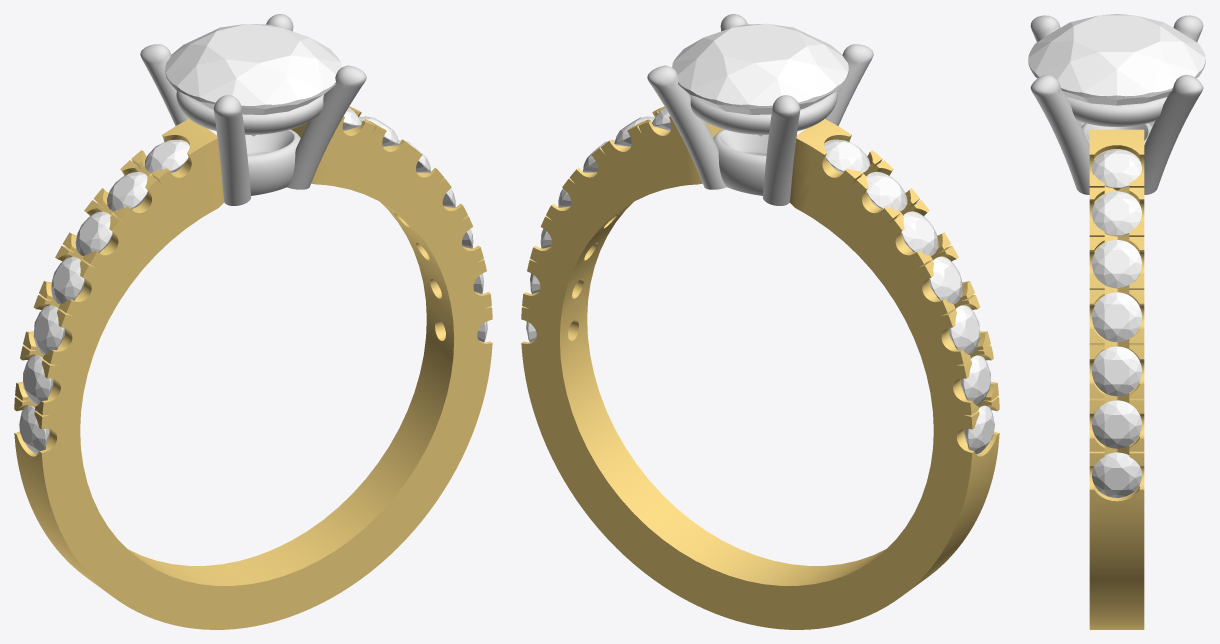
The model's file is nateT_webgi (1).glb.
3 renders of one model, left to right at view 1: azimuth 30°, elevation 25°; view 2: azimuth 150°, elevation 25°; view 3: azimuth 270°, elevation 25°, orthographic.
Parts seen in each view (by area): view 1: Nate_T_ring_for_3d_model, Nate_T_ring_for_3d_model003, Nate_T_ring_for_3d_model021, Nate_T_ring_for_3d_model016, Nate_T_ring_for_3d_model015, Nate_T_ring_for_3d_model017, Nate_T_ring_for_3d_model014, Nate_T_ring_for_3d_model018, Nate_T_ring_for_3d_model019, Nate_T_ring_for_3d_model020; view 2: Nate_T_ring_for_3d_model, Nate_T_ring_for_3d_model003, Nate_T_ring_for_3d_model021, Nate_T_ring_for_3d_model016, Nate_T_ring_for_3d_model015, Nate_T_ring_for_3d_model017, Nate_T_ring_for_3d_model014, Nate_T_ring_for_3d_model018, Nate_T_ring_for_3d_model019, Nate_T_ring_for_3d_model020; view 3: Nate_T_ring_for_3d_model, Nate_T_ring_for_3d_model021, Nate_T_ring_for_3d_model003, Nate_T_ring_for_3d_model010, Nate_T_ring_for_3d_model011, Nate_T_ring_for_3d_model012, Nate_T_ring_for_3d_model009, Nate_T_ring_for_3d_model013, Nate_T_ring_for_3d_model008, Nate_T_ring_for_3d_model007.
Boxes of the visible parts, <box> form: Nate_T_ring_for_3d_model: <box>14,106,492,629</box>; Nate_T_ring_for_3d_model003: <box>140,14,366,205</box>; Nate_T_ring_for_3d_model021: <box>165,23,341,136</box>; Nate_T_ring_for_3d_model016: <box>75,211,112,256</box>; Nate_T_ring_for_3d_model015: <box>107,172,147,211</box>; Nate_T_ring_for_3d_model017: <box>51,256,84,304</box>; Nate_T_ring_for_3d_model014: <box>144,139,189,172</box>; Nate_T_ring_for_3d_model018: <box>33,305,64,354</box>; Nate_T_ring_for_3d_model019: <box>23,355,53,404</box>; Nate_T_ring_for_3d_model020: <box>19,405,49,454</box>; Nate_T_ring_for_3d_model: <box>521,106,999,629</box>; Nate_T_ring_for_3d_model003: <box>647,14,873,205</box>; Nate_T_ring_for_3d_model021: <box>672,23,848,136</box>; Nate_T_ring_for_3d_model016: <box>901,211,938,256</box>; Nate_T_ring_for_3d_model015: <box>866,172,906,211</box>; Nate_T_ring_for_3d_model017: <box>929,256,962,304</box>; Nate_T_ring_for_3d_model014: <box>824,139,869,172</box>; Nate_T_ring_for_3d_model018: <box>949,305,980,354</box>; Nate_T_ring_for_3d_model019: <box>960,355,990,404</box>; Nate_T_ring_for_3d_model020: <box>964,405,994,454</box>; Nate_T_ring_for_3d_model: <box>1089,129,1144,629</box>; Nate_T_ring_for_3d_model021: <box>1028,14,1205,105</box>; Nate_T_ring_for_3d_model003: <box>1030,15,1203,194</box>; Nate_T_ring_for_3d_model010: <box>1092,292,1141,342</box>; Nate_T_ring_for_3d_model011: <box>1092,346,1141,396</box>; Nate_T_ring_for_3d_model012: <box>1092,400,1141,448</box>; Nate_T_ring_for_3d_model009: <box>1092,240,1141,288</box>; Nate_T_ring_for_3d_model013: <box>1092,452,1141,497</box>; Nate_T_ring_for_3d_model008: <box>1092,191,1141,236</box>; Nate_T_ring_for_3d_model007: <box>1092,149,1141,188</box>.
Size of the model in its own units: 2.51 by 3 by 0.8431.
